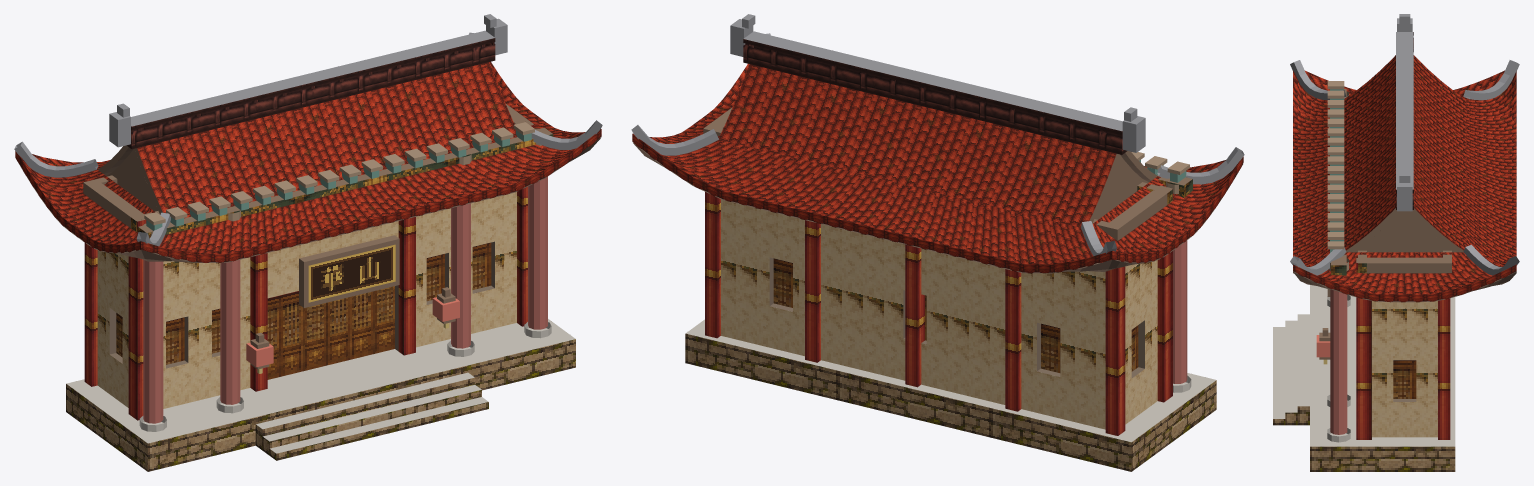
The model's file is g_hwasan_hut_o.glb.
3 renders of one model, left to right at view 1: azimuth 30°, elevation 25°; view 2: azimuth 150°, elevation 25°; view 3: azimuth 270°, elevation 25°, orthographic. The views are drawn at different scales.
Parts seen in each view (by area): view 1: roof, plaster, stonetop, stone, col, post, door, ridge, ridgeend, wood, eave, woodl (+7 smaller); view 2: roof, plaster, stone, post, ridge, ridgeend, eave, stonetop, wood, win, col, under (+1 smaller); view 3: roof, stonetop, plaster, ridgeend, wood, stone, post, woodl, col, eave, win, under (+2 smaller).
Part boxes in pixels (x1,y1,x2,y2): roof: (19, 61, 600, 254); plaster: (97, 192, 516, 408); stonetop: (66, 319, 575, 453); stone: (66, 339, 575, 471); col: (143, 176, 547, 423); post: (84, 125, 533, 420); door: (267, 286, 394, 379); ridge: (127, 38, 495, 148); ridgeend: (14, 14, 602, 246); wood: (83, 104, 552, 369); eave: (15, 129, 601, 262); woodl: (143, 122, 541, 235); roof: (633, 63, 1239, 264); plaster: (721, 199, 1157, 429); stone: (685, 333, 1216, 471); post: (705, 189, 1172, 435); ridge: (743, 39, 1126, 154); ridgeend: (631, 14, 1244, 255); eave: (632, 134, 1243, 273); stonetop: (686, 319, 1215, 442); wood: (703, 107, 1192, 240); win: (773, 258, 1138, 372); col: (1173, 240, 1187, 383); under: (633, 142, 1242, 273); roof: (1293, 55, 1516, 294); stonetop: (1273, 285, 1455, 446); plaster: (1372, 301, 1437, 437); ridgeend: (1290, 14, 1519, 275); wood: (1319, 89, 1463, 359); stone: (1273, 406, 1455, 471); post: (1356, 263, 1450, 439); woodl: (1327, 81, 1348, 270); col: (1330, 289, 1347, 434); eave: (1293, 264, 1516, 302); win: (1393, 360, 1416, 398); under: (1293, 230, 1516, 302).
Bounding box in the file's own units: 85.81 × 56.14 × 44.28.
Materials: 20 (10 with a texture image).
